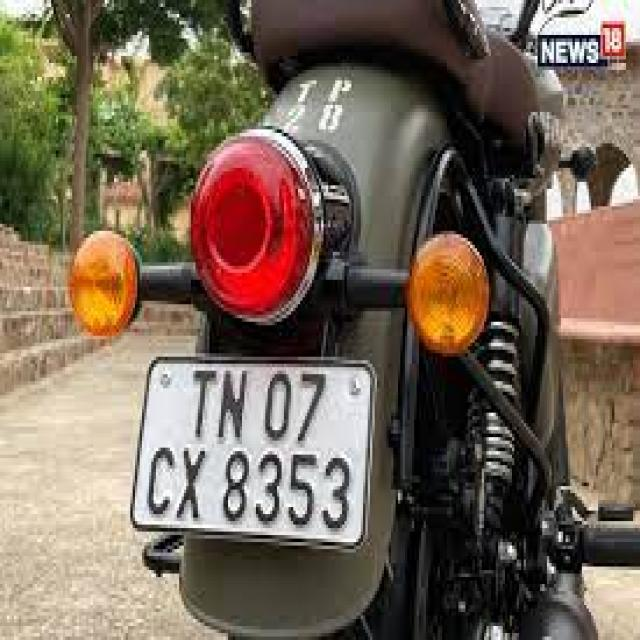number plate: (128, 346, 375, 549)
